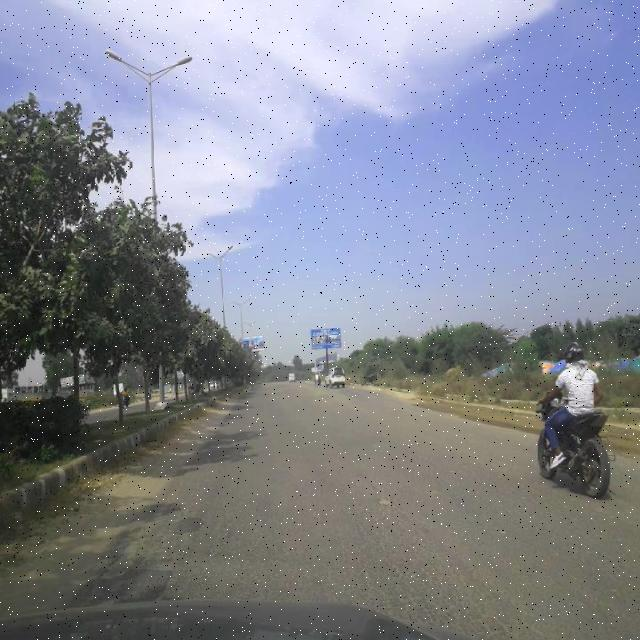D20: (88, 479, 639, 631)
D40: (112, 527, 148, 584), (371, 486, 398, 510)
